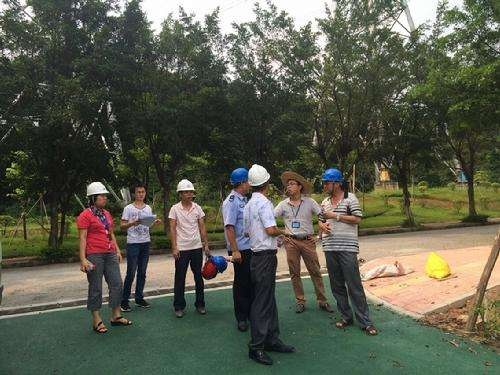blue: (319, 167, 344, 197), (229, 166, 251, 195)
none: (284, 173, 302, 200), (131, 180, 148, 204)
white: (245, 163, 274, 197), (84, 180, 110, 211), (175, 178, 197, 206)
